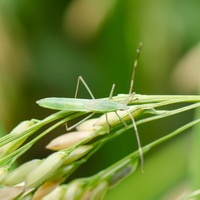insect: (37, 43, 143, 172)
